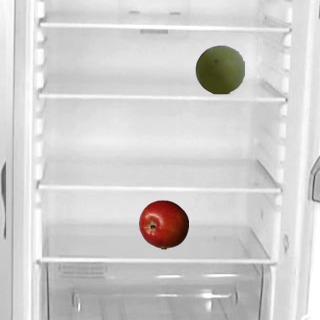Apple Braeburn: (138, 199, 188, 249)
Grape White 4: (194, 44, 244, 94)
